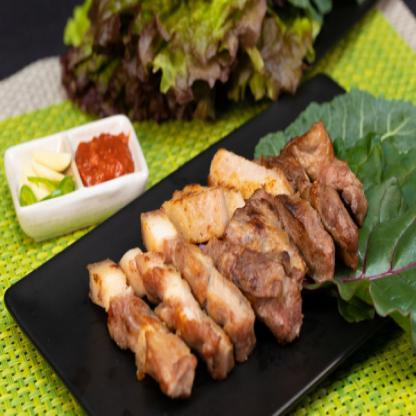pork: (108, 150, 362, 400)
